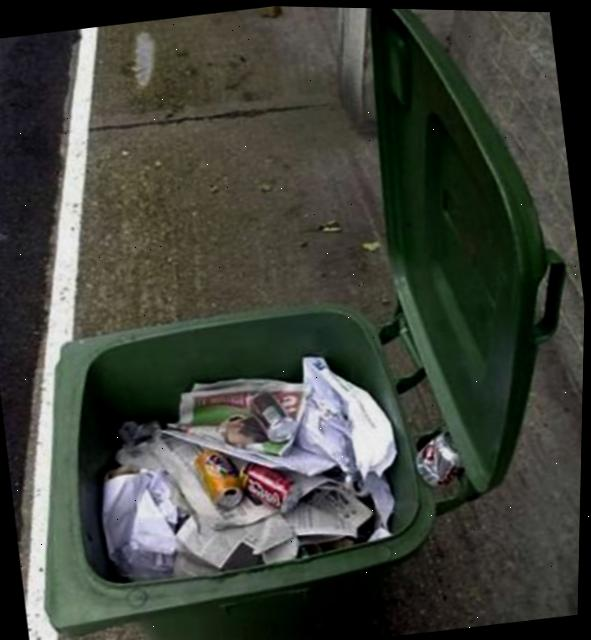Garbage: (100, 355, 387, 578)
can: (241, 462, 302, 511), (195, 449, 245, 507), (416, 429, 460, 484), (252, 390, 297, 441)
